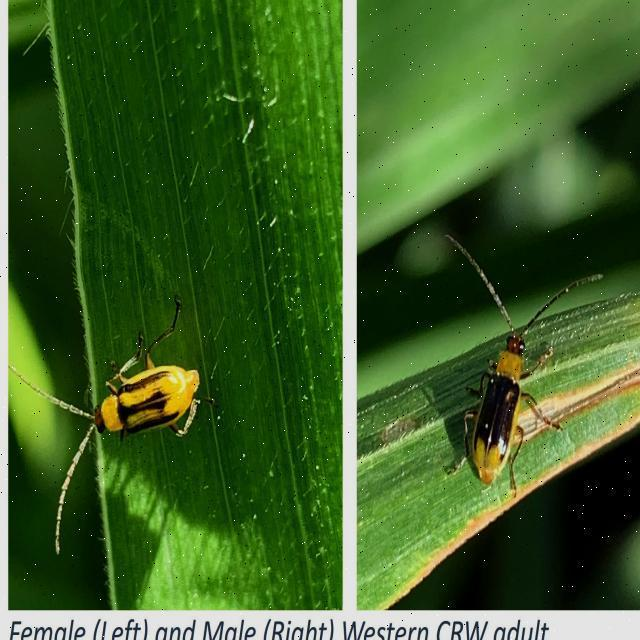trips: (444, 230, 566, 516), (13, 335, 250, 475)
